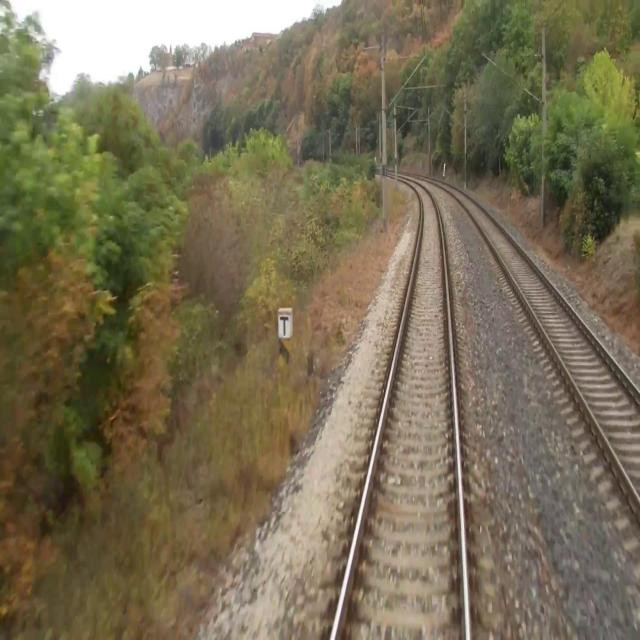rail-track: (394, 171, 640, 497), (334, 173, 465, 639)
